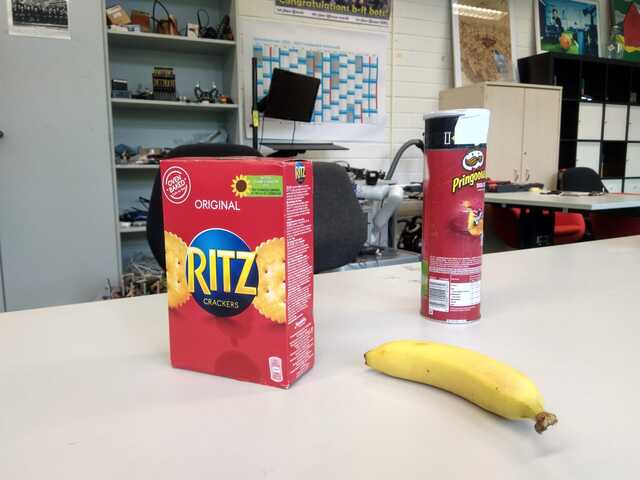001_chips_can: (417, 106, 493, 325)
003_cracker_box: (155, 153, 325, 393)
011_banana: (359, 336, 561, 437)
